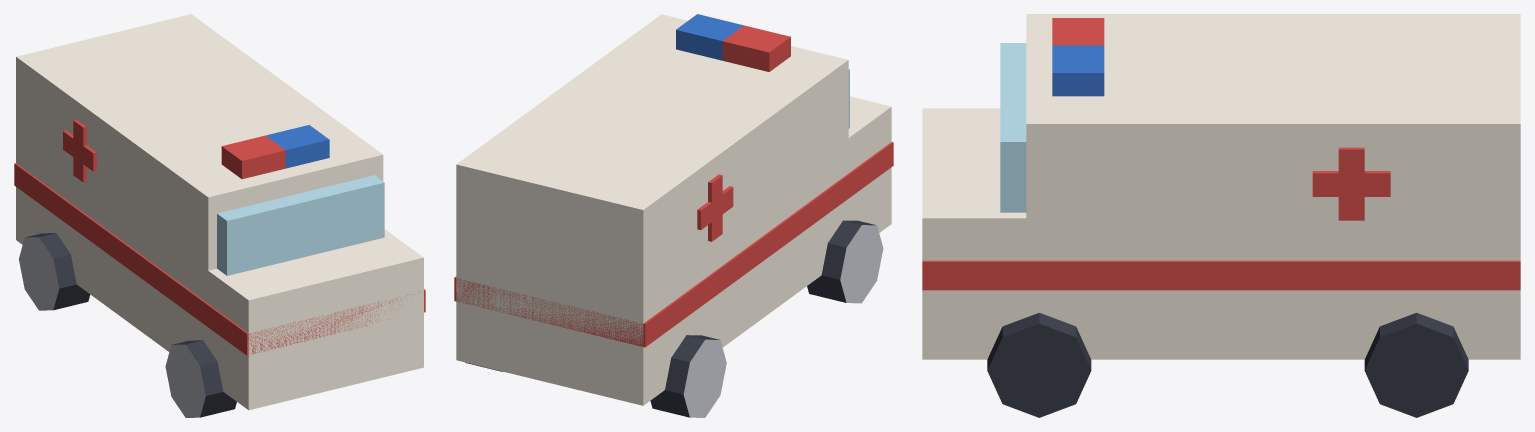
The model's file is vehicle_ambulance.glb.
3 renders of one model, left to right at view 1: azimuth 30°, elevation 25°; view 2: azimuth 150°, elevation 25°; view 3: azimuth 270°, elevation 25°, orthographic. The views are drawn at different scales.
Visible parts, largest first — view 1: vehicle_ambulance; view 2: vehicle_ambulance; view 3: vehicle_ambulance.
Boxes of the visible parts, <box> form: vehicle_ambulance: <box>14,14,425,417</box>; vehicle_ambulance: <box>454,14,893,417</box>; vehicle_ambulance: <box>922,14,1520,417</box>.
Bounding box in the file's own units: 0.12 × 0.13 × 0.23.
